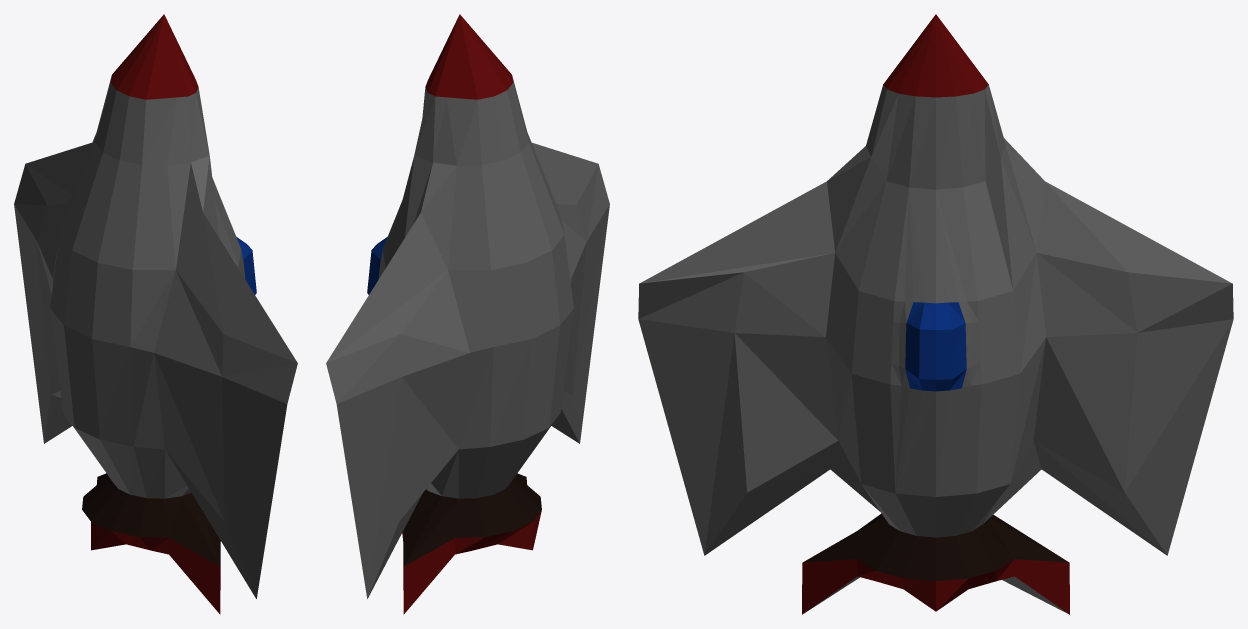
The model's file is SpadeMk1.fbx.
The picture shows the model from 3 angles, left to right: view 1: azimuth 30°, elevation 25°; view 2: azimuth 150°, elevation 25°; view 3: azimuth 270°, elevation 25°; orthographic projection. The views are drawn at different scales.
Visible parts, largest first — view 1: pCylinder1; view 2: pCylinder1; view 3: pCylinder1.
Part boxes in pixels (box(x1,y1,x2,y2)): pCylinder1: box(14, 14, 297, 614); pCylinder1: box(326, 14, 609, 614); pCylinder1: box(638, 14, 1233, 614).
Size of the model in its own units: 2.67 by 7.58 by 6.77.
